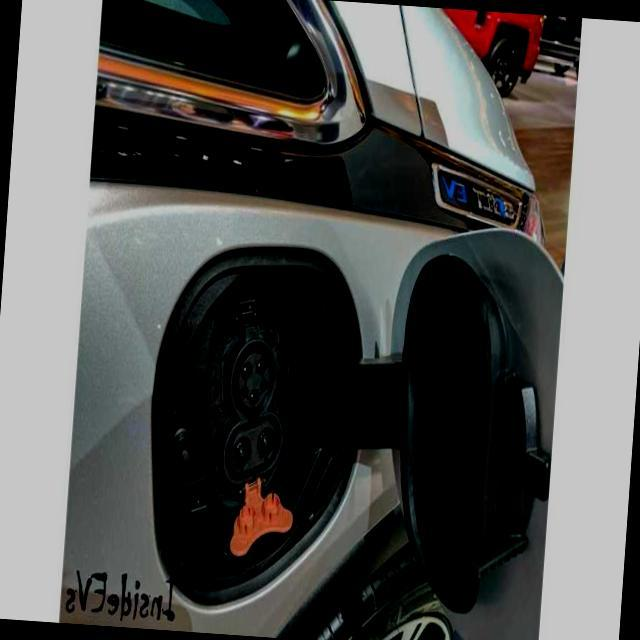CCS1: (209, 337, 323, 507)
